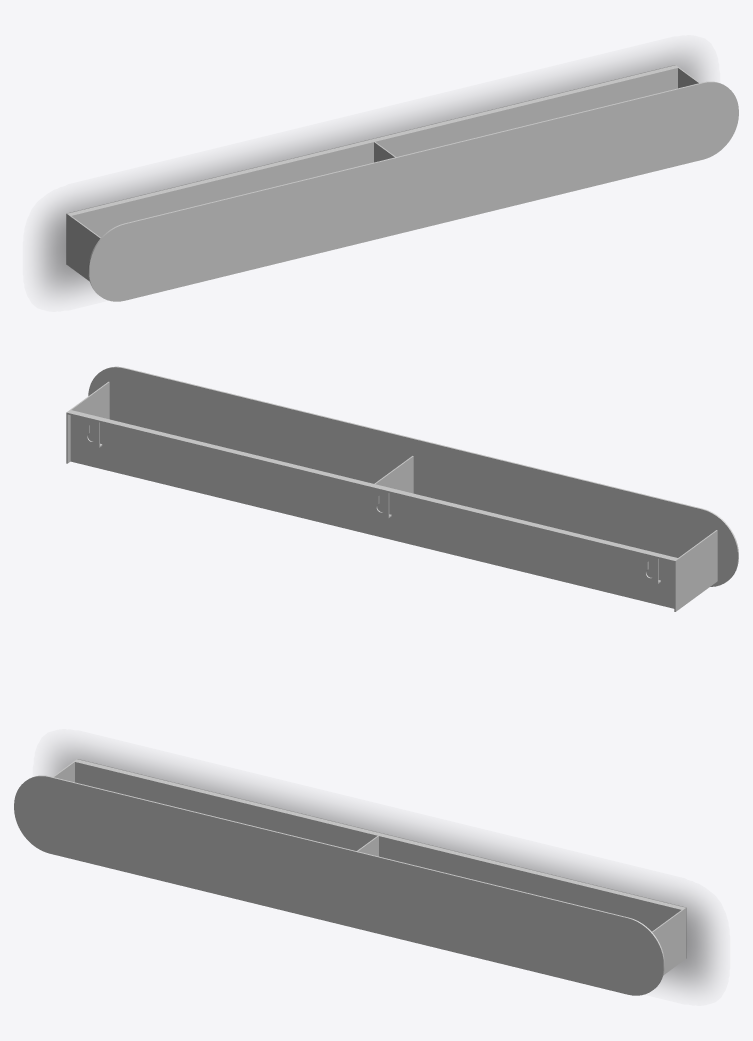
The model's file is round-mono.8fc1abddc4.ar.glb.
3 views of the same model, one above another, from view 1: azimuth 30°, elevation 25°; view 2: azimuth 150°, elevation 25°; view 3: azimuth 330°, elevation 25° (orthographic).
Visible parts, largest first — view 1: NAUO1, object 2; view 2: NAUO1; view 3: NAUO1, object 2.
Part boxes in pixels (<box>): NAUO1: <box>66,65,738,301</box>; object 2: <box>38,53,703,293</box>; NAUO1: <box>66,366,738,611</box>; NAUO1: <box>14,759,686,995</box>; object 2: <box>49,747,714,987</box>.
Size of the model in its own units: 0.88 by 0.17 by 0.092.
2 materials, 1 textured.
